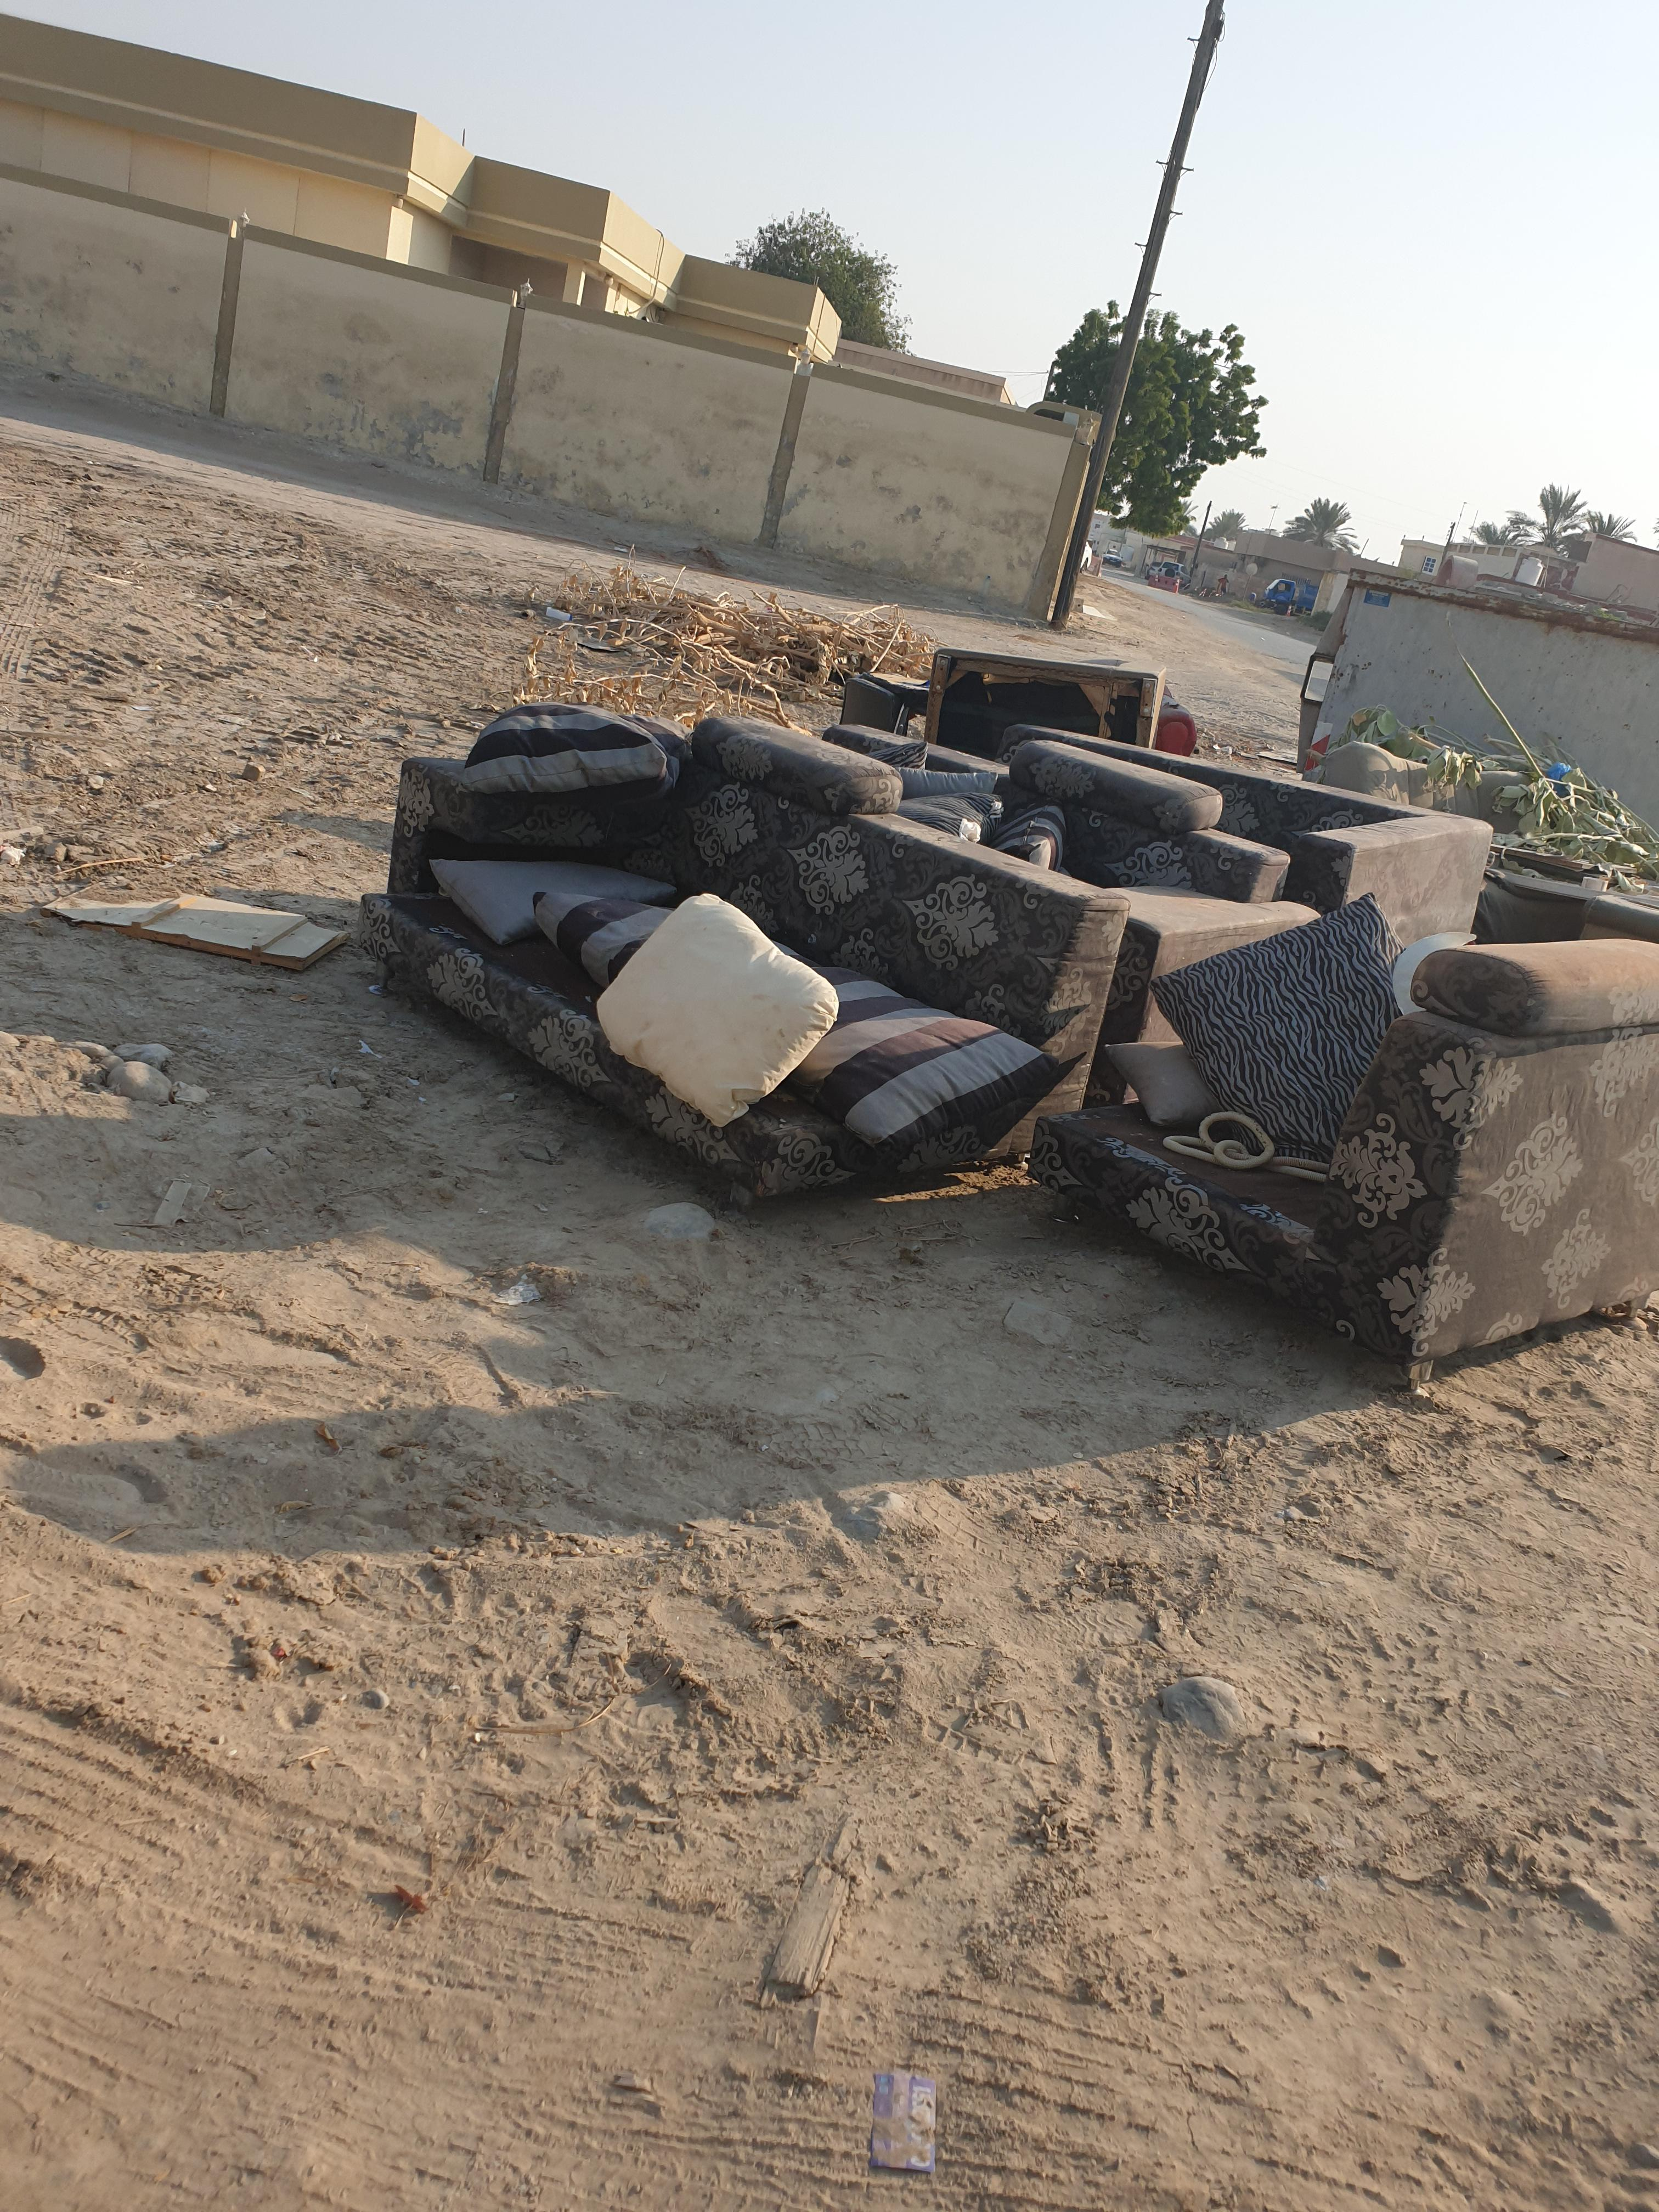fallen_trees: (73, 523, 678, 897), (19, 758, 737, 954), (291, 495, 767, 751)
uncollected_waste: (587, 1021, 1234, 1383), (40, 1033, 620, 1268)
